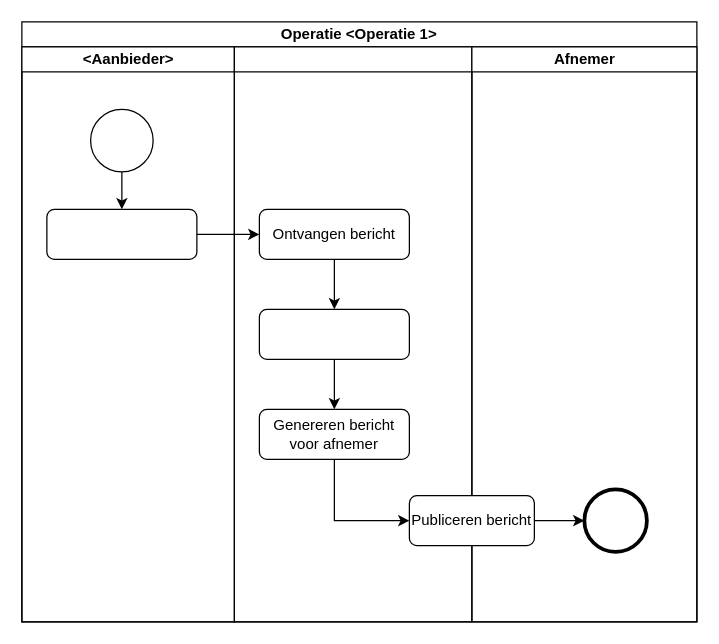
Some shapes in this 719 by 644 pixel diagram are drawn without their labels. Each missing label, with the box of its shape:
Service: (233, 46, 472, 622)
Versturen bericht: (46, 208, 197, 259)
Vertalen bericht: (258, 308, 409, 359)
